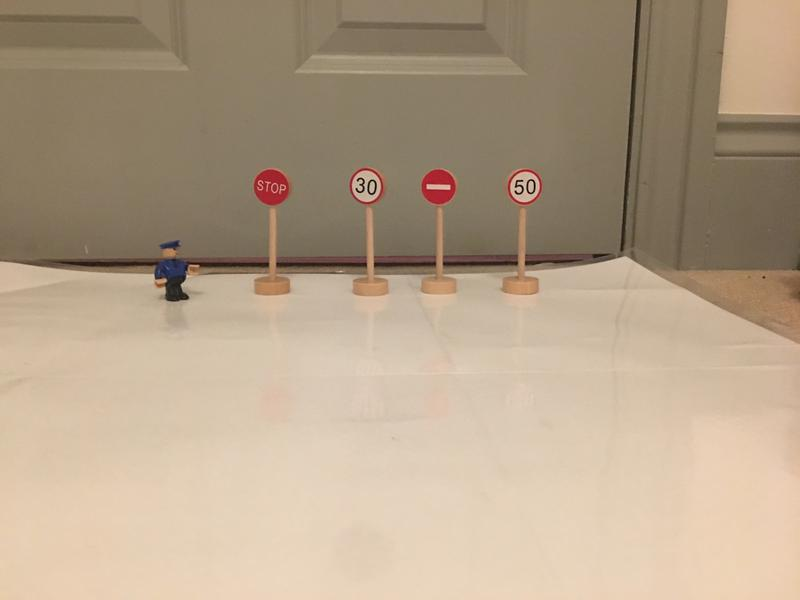Traffic_Sign_30: (350, 167, 383, 204)
Traffic_Sign_50: (507, 169, 543, 205)
Traffic_Sign_No_Entry: (420, 169, 458, 205)
Traffic_Sign_Stop: (254, 169, 290, 205)
person: (153, 240, 201, 304)
